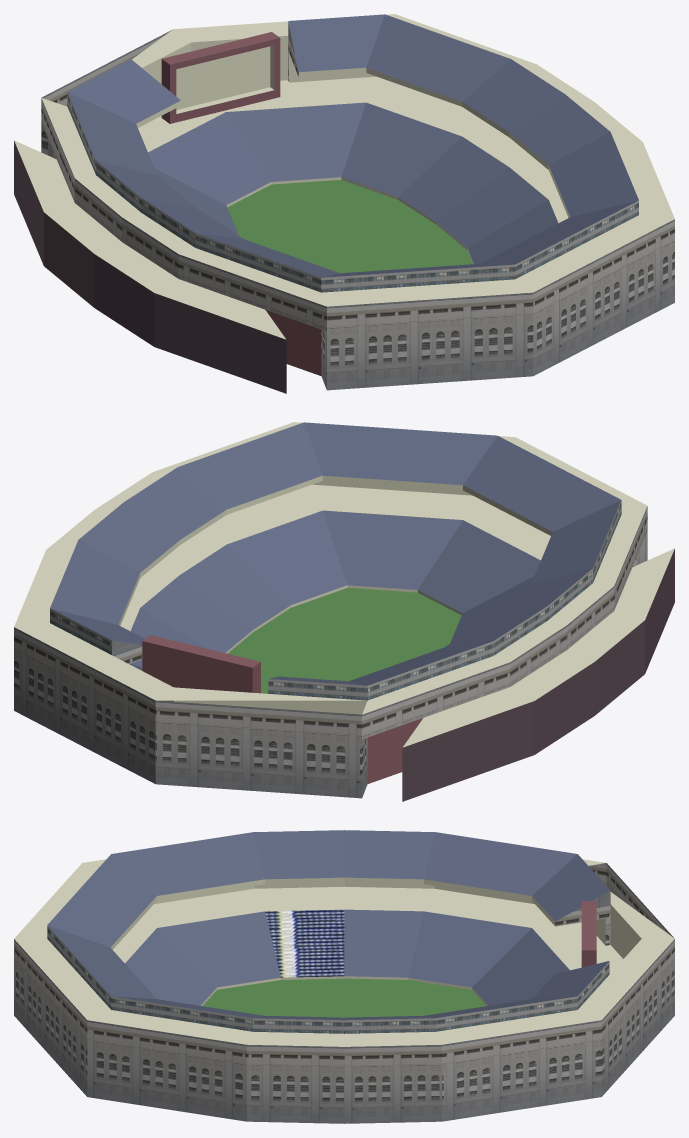
Rendered from stadium june 3.fbx.
3 views of the same model, one above another, from view 1: azimuth 30°, elevation 25°; view 2: azimuth 150°, elevation 25°; view 3: azimuth 270°, elevation 25° (orthographic). The views are drawn at different scales.
Parts seen in each view (by area): view 1: Model; view 2: Model; view 3: Model.
Part boxes in pixels (x1,y1,x2,y2): Model: (14,14,674,393); Model: (14,422,674,801); Model: (14,830,674,1123).
Bounding box in the file's own units: 9600 × 1806 × 11955.
